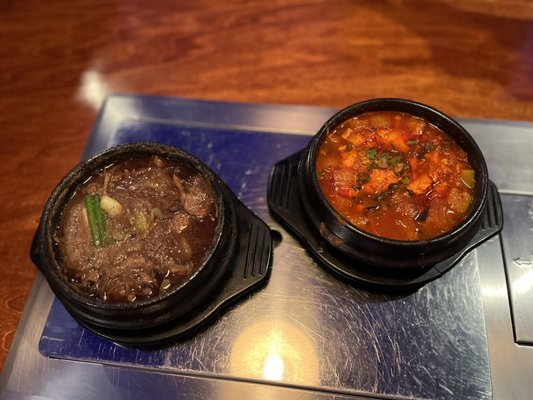sushi: (29, 141, 268, 344)
